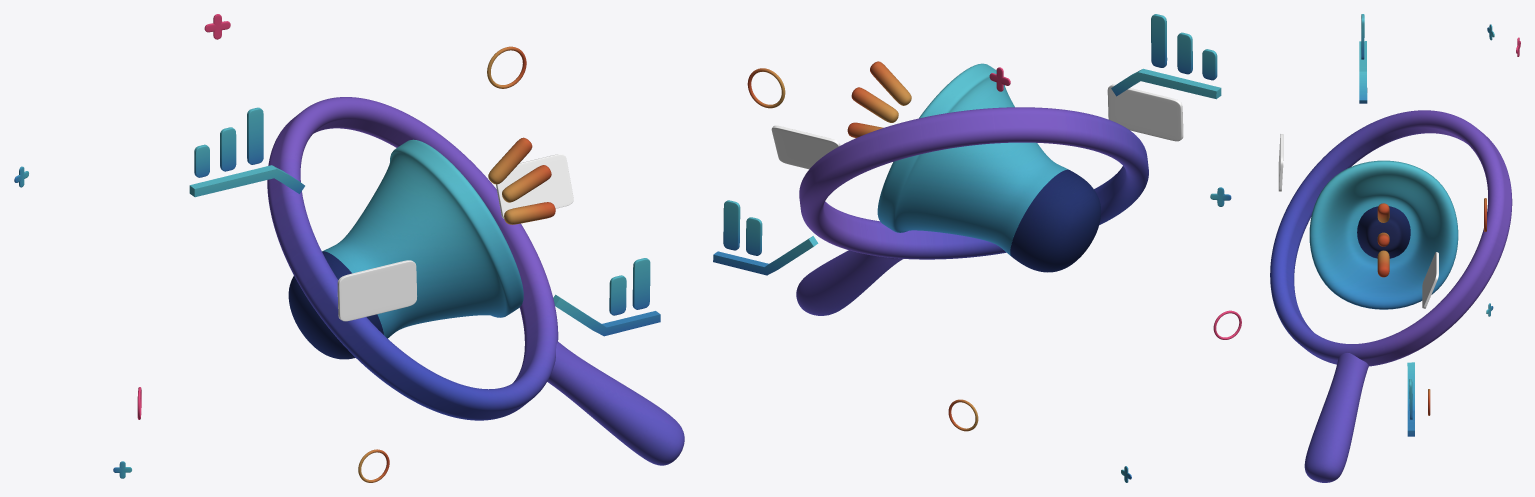
Rendered from search-volume-3d-animated-icon-179056326934.glb.
The picture shows the model from 3 angles, left to right: view 1: azimuth 30°, elevation 25°; view 2: azimuth 150°, elevation 25°; view 3: azimuth 270°, elevation 25°; orthographic projection. The views are drawn at different scales.
Visible parts, largest first — view 1: Cube.001, Megaphone, Cube.006, Cube.005, Cube.017, Cube, Cube.002, Sound Line 1, Sound Line 2, Cube.007, Sound Line 3, Cube.004; view 2: Cube.001, Megaphone, Cube.006, Cube.005, Cube.017, Cube, Cube.002, Sound Line 1, Cube.007, Sound Line 2, Cube.004, Cube.008; view 3: Cube.001, Megaphone, Cube.005, Cube, Cube.017, Sound Line 3, Cube.006.
Part boxes in pixels (x1=…): Cube.001: x1=267, y1=97, x2=684, y2=465; Megaphone: x1=288, y1=139, x2=523, y2=359; Cube.006: x1=337, y1=260, x2=417, y2=321; Cube.005: x1=496, y1=154, x2=573, y2=218; Cube.017: x1=189, y1=165, x2=304, y2=197; Cube: x1=553, y1=294, x2=660, y2=336; Cube.002: x1=247, y1=107, x2=263, y2=164; Sound Line 1: x1=488, y1=137, x2=532, y2=184; Sound Line 2: x1=502, y1=165, x2=551, y2=202; Cube.007: x1=632, y1=258, x2=650, y2=309; Sound Line 3: x1=504, y1=202, x2=555, y2=224; Cube.004: x1=220, y1=127, x2=236, y2=171; Cube.001: x1=796, y1=107, x2=1148, y2=315; Megaphone: x1=877, y1=63, x2=1100, y2=272; Cube.006: x1=1107, y1=84, x2=1183, y2=141; Cube.005: x1=771, y1=125, x2=840, y2=169; Cube.017: x1=1111, y1=68, x2=1221, y2=99; Cube: x1=713, y1=236, x2=818, y2=275; Cube.002: x1=1151, y1=14, x2=1167, y2=67; Sound Line 1: x1=870, y1=61, x2=911, y2=105; Cube.007: x1=723, y1=200, x2=740, y2=250; Sound Line 2: x1=851, y1=87, x2=898, y2=122; Cube.004: x1=1177, y1=32, x2=1192, y2=74; Cube.008: x1=746, y1=217, x2=762, y2=255; Cube.001: x1=1270, y1=110, x2=1512, y2=482; Megaphone: x1=1309, y1=160, x2=1458, y2=309; Cube.005: x1=1422, y1=252, x2=1438, y2=308; Cube: x1=1407, y1=362, x2=1414, y2=436; Cube.017: x1=1359, y1=41, x2=1367, y2=103; Sound Line 3: x1=1377, y1=250, x2=1389, y2=277; Cube.006: x1=1278, y1=134, x2=1283, y2=191.
Size of the model in its own units: 5.79 by 4.19 by 2.79.
Materials: 11 (7 with a texture image).
